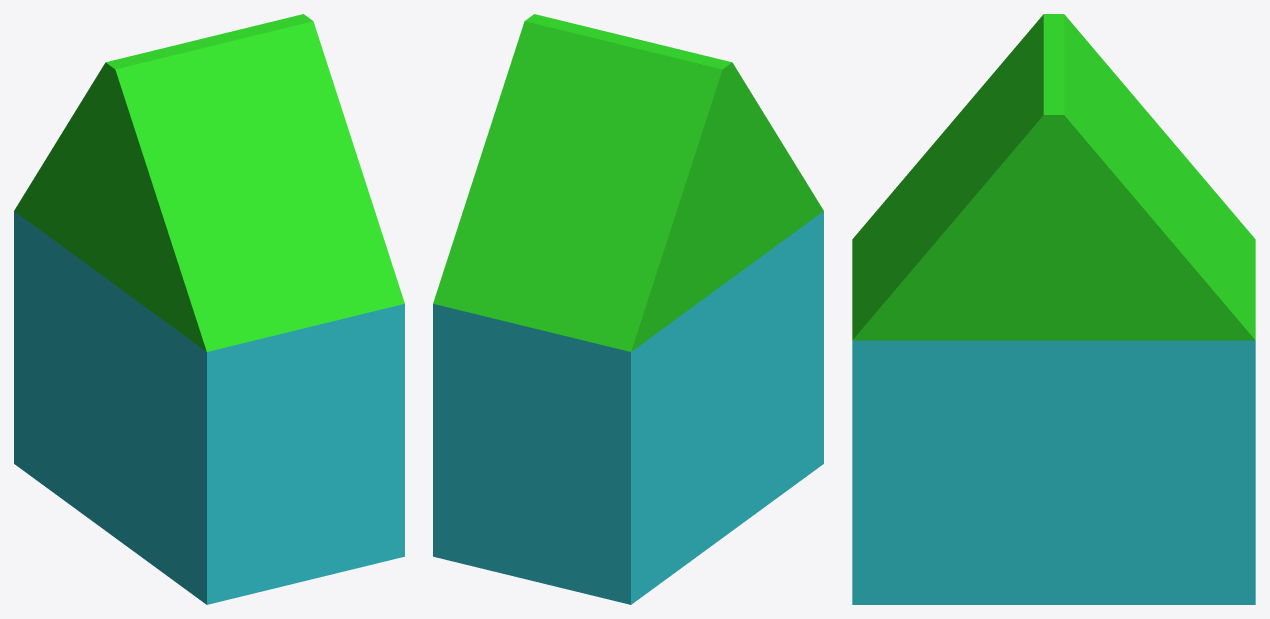
The model's file is Bloque2.fbx.
3 renders of one model, left to right at view 1: azimuth 30°, elevation 25°; view 2: azimuth 150°, elevation 25°; view 3: azimuth 270°, elevation 25°, orthographic. The views are drawn at different scales.
Visible parts, largest first — view 1: Bloques; view 2: Bloques; view 3: Bloques.
Boxes of the visible parts, x1=… form: Bloques: x1=14, y1=14, x2=404, y2=604; Bloques: x1=433, y1=14, x2=823, y2=604; Bloques: x1=852, y1=14, x2=1255, y2=604.
Bounding box in the file's own units: 0.1268 × 0.2866 × 0.2139.
